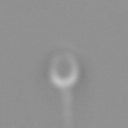normal: (57, 88, 79, 128)
